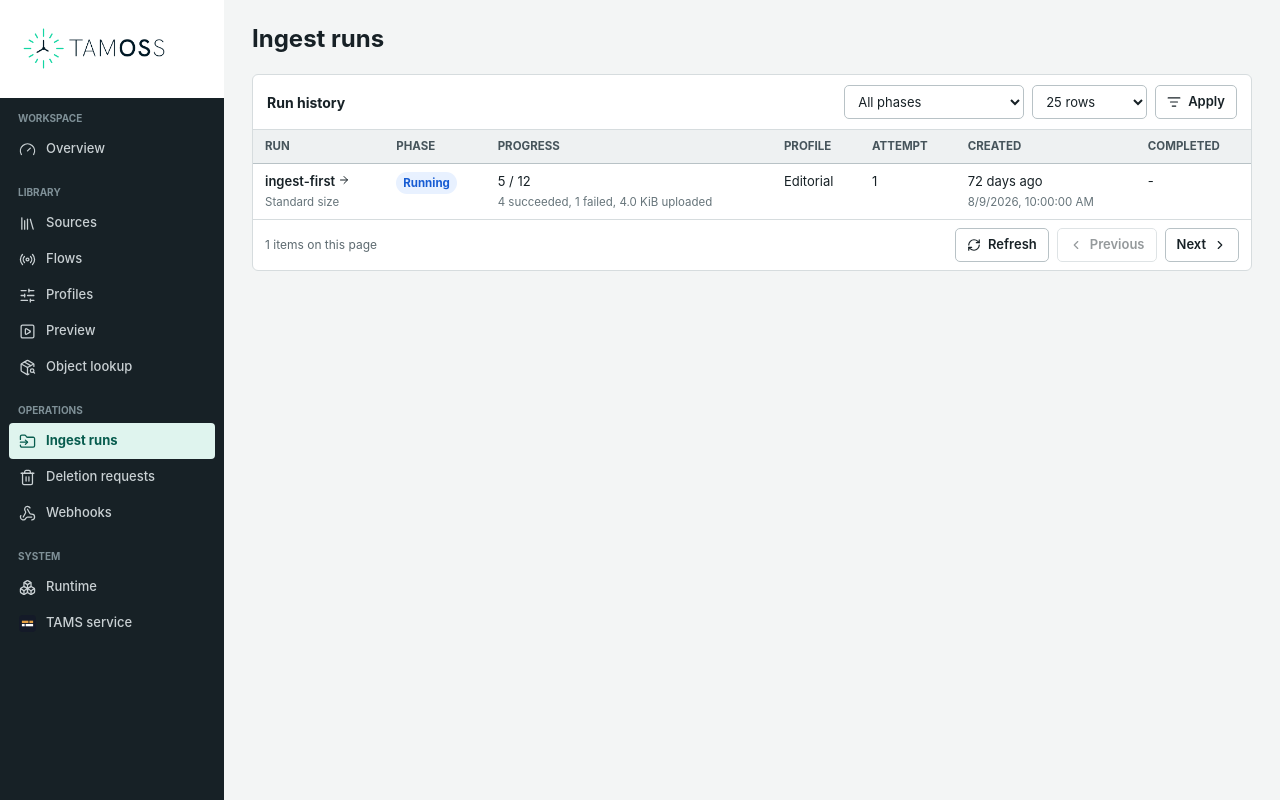
Scenario: operational routes › pages durable IngestRun history without accumulating prior results
Check: the link "ingest-first" is shown, box top-left (265, 173), bottom-right (350, 189)
Click the button "Next". click: click(1202, 245)
box: top-left (1164, 228), bottom-right (1239, 262)
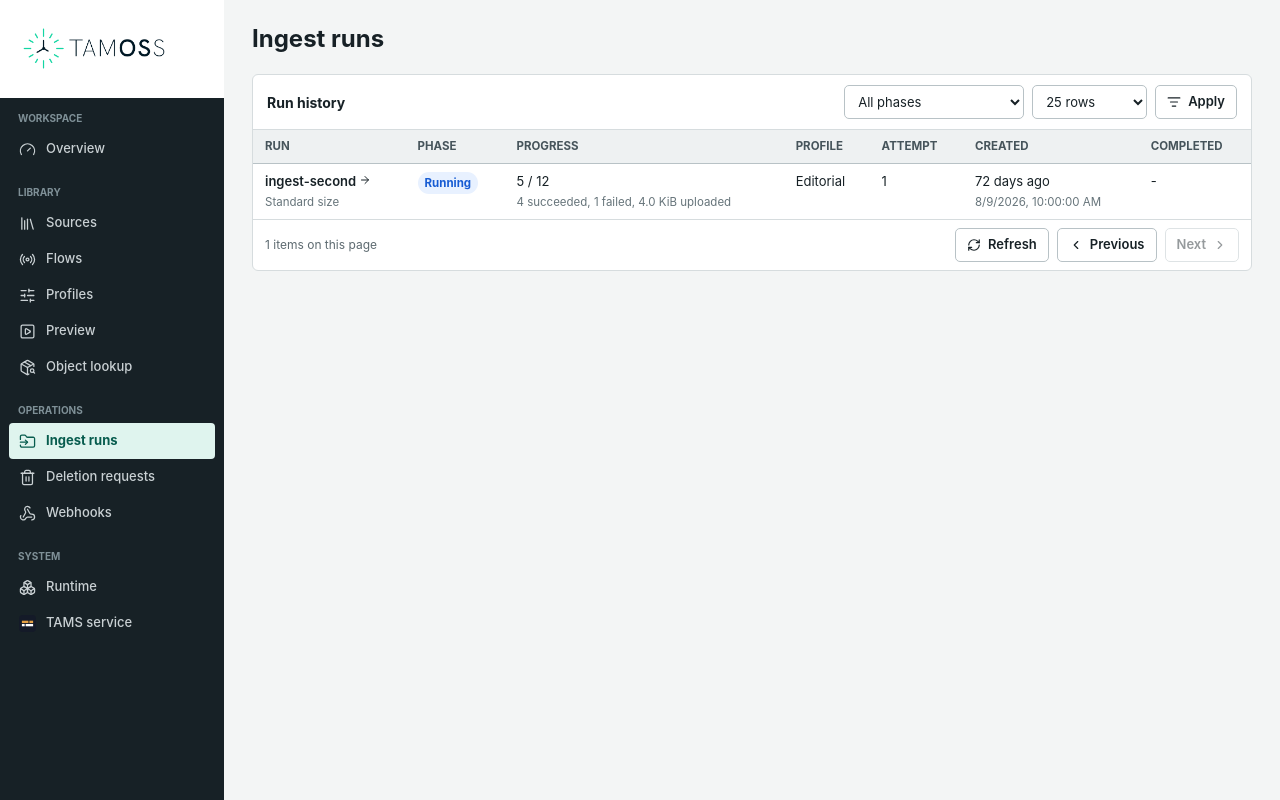
Check: the link "ingest-second" is shown, box top-left (265, 173), bottom-right (371, 189)
Check: the link "ingest-first" is gone
